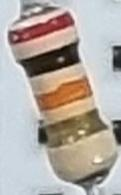Black: (15, 37, 82, 79)
Orange: (34, 75, 93, 113)
Red: (8, 11, 77, 47)
Side-Gold: (45, 107, 111, 152)
